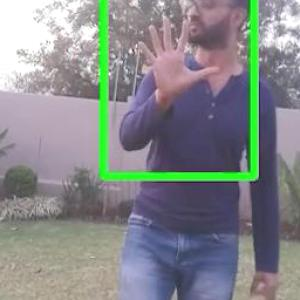follow_hand: (131, 11, 226, 96)
